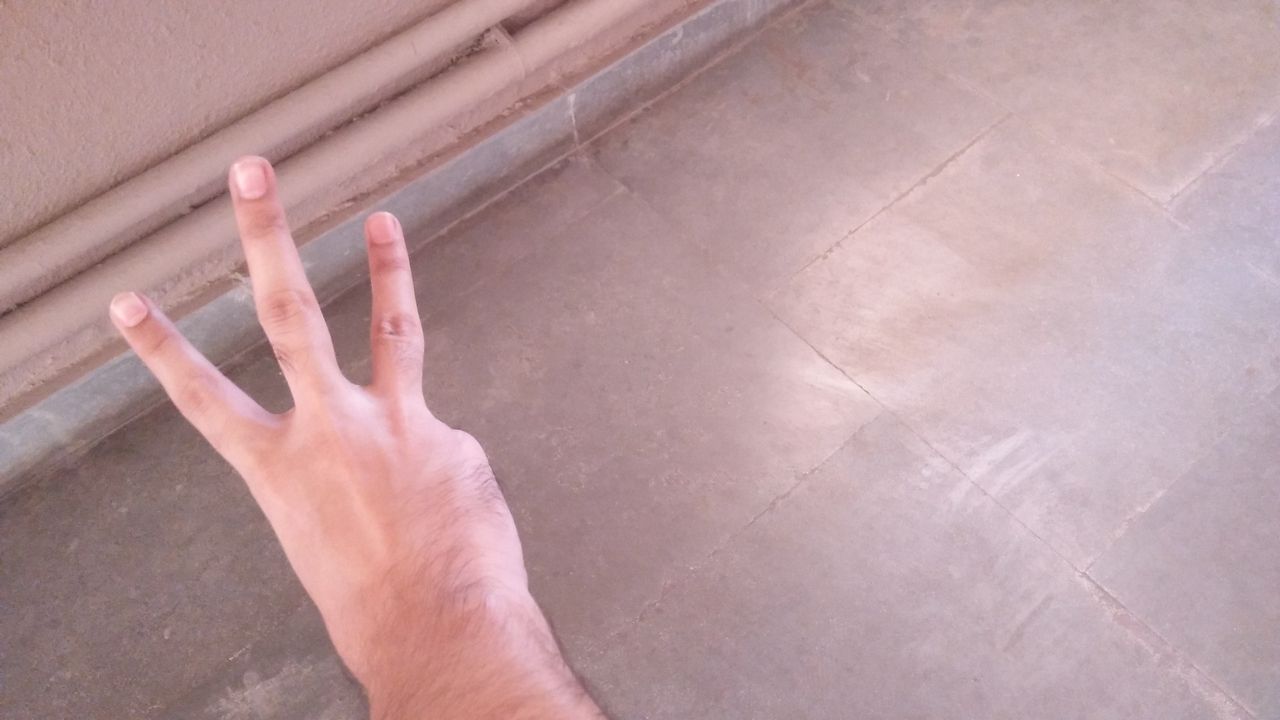fingertip: (212, 148, 280, 208), (100, 286, 162, 342), (354, 198, 408, 252)
